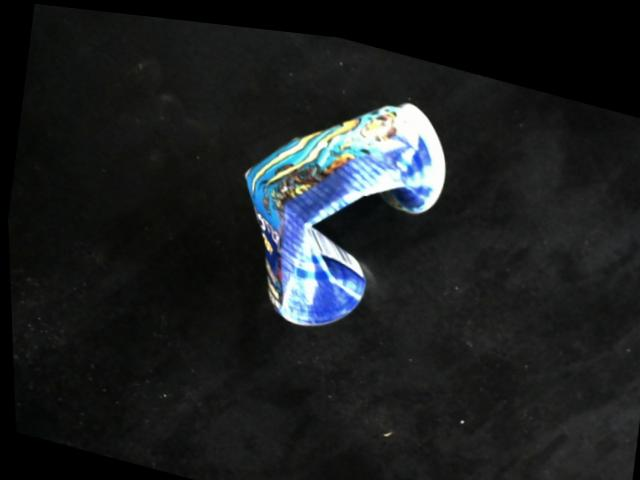can: (238, 91, 454, 325)
